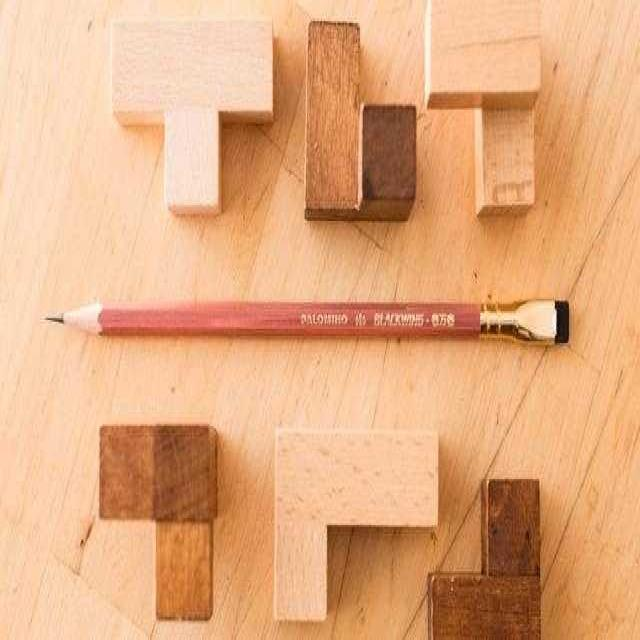pencil: (23, 269, 584, 365)
